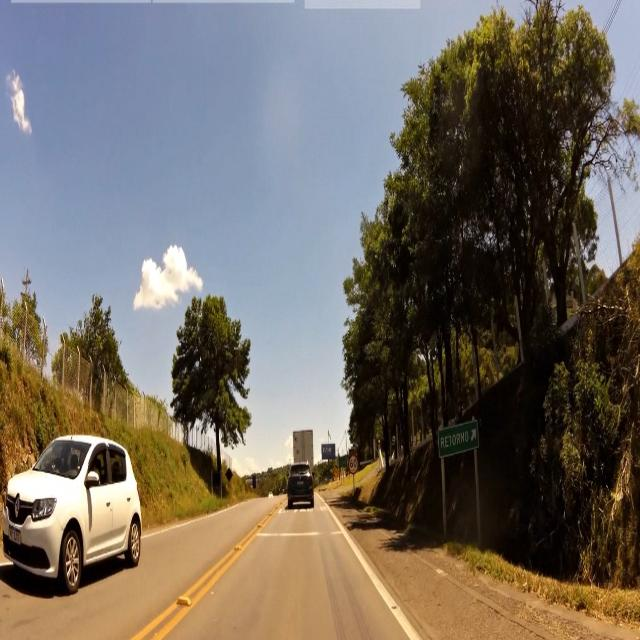R-19: (349, 456, 359, 474)
